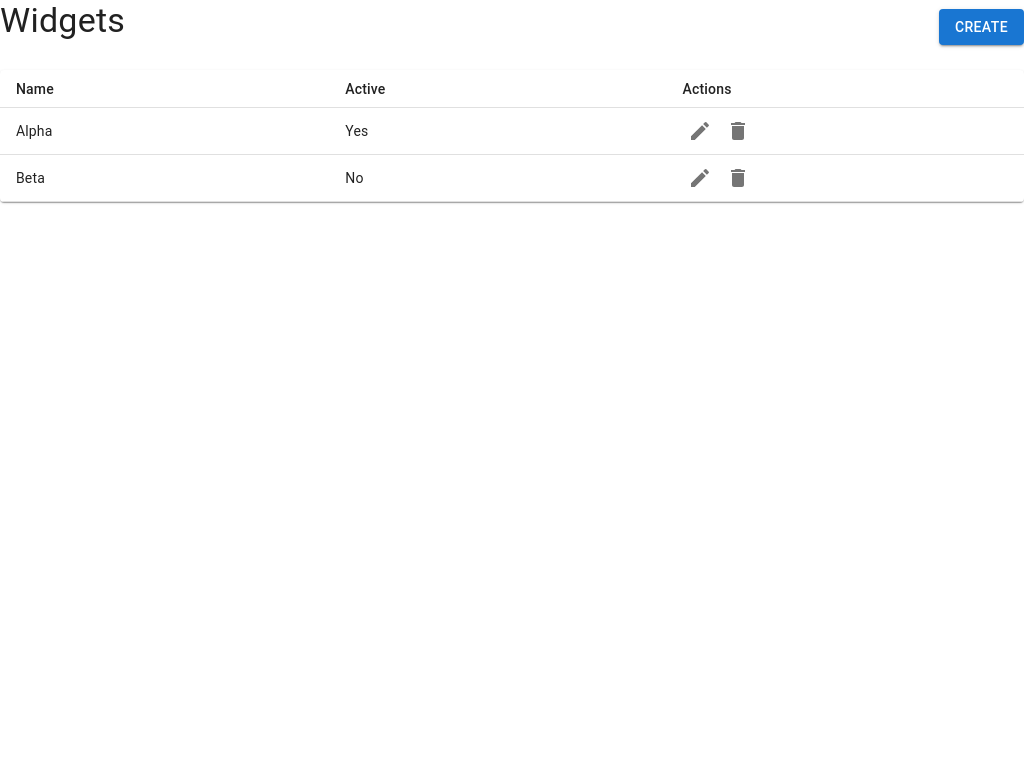
Test: CrudPage › creates a row via the dialog
The width and height of the screenshot is (1024, 768).
Expected: the text "Alpha" is shown, [16,123,52,139]
Click the button "Create".
click(981, 27)  # box [939,9,1023,45]
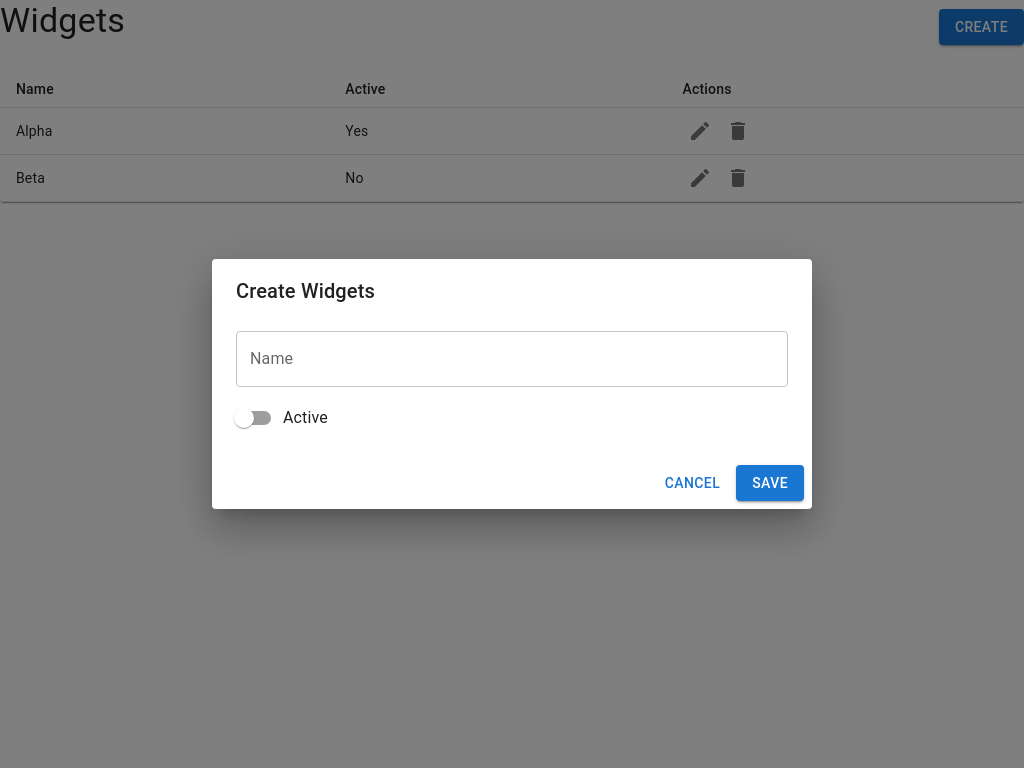
Type "Gamma" into the field labelled "Name".
click(512, 359); type("Gamma")  # box [236,331,788,387]
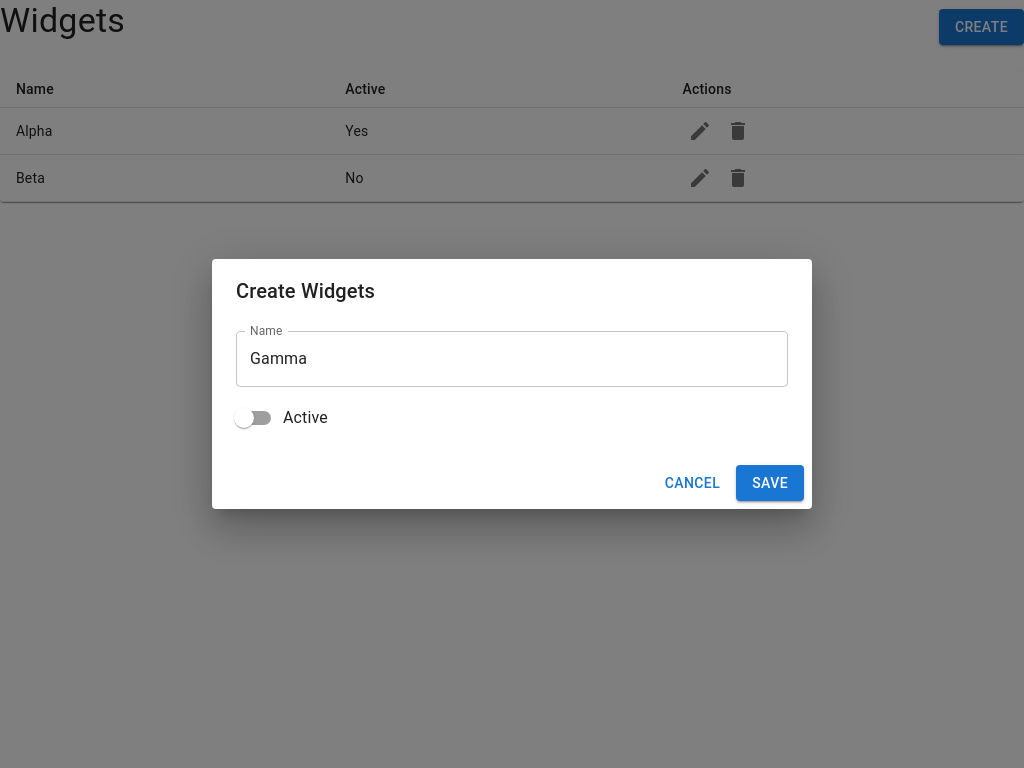
Click the button "Save".
click(770, 483)  # box [736,465,804,501]
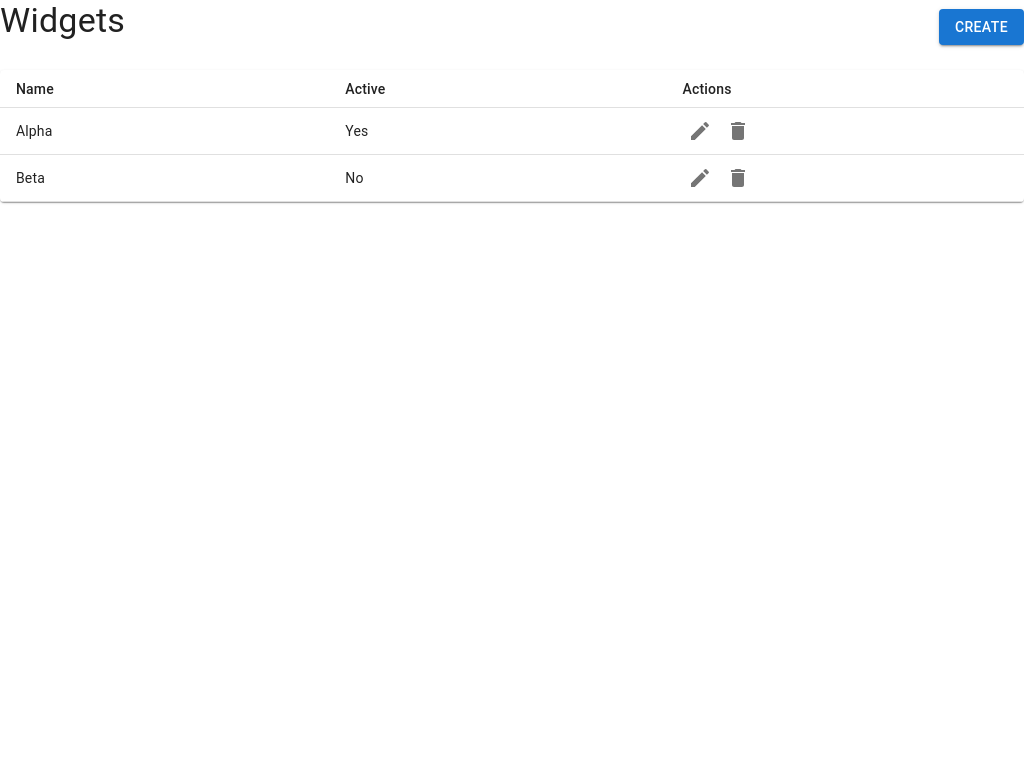
Result: the heading "Create Widgets" is gone
